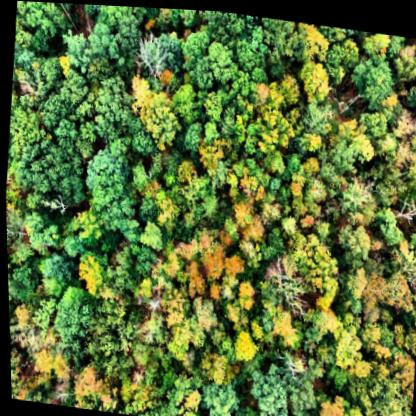tree-top: (16, 135, 87, 211), (77, 138, 136, 229), (130, 78, 184, 151), (84, 297, 136, 369), (182, 19, 235, 89), (346, 363, 406, 416), (78, 76, 123, 142), (293, 228, 339, 291), (348, 49, 396, 109), (245, 361, 289, 416), (359, 263, 409, 311), (69, 362, 114, 412), (15, 202, 58, 254), (278, 362, 319, 416), (316, 135, 357, 189), (335, 213, 377, 264), (364, 143, 401, 199), (231, 17, 270, 70), (258, 101, 295, 153), (6, 107, 41, 161), (334, 256, 371, 307), (299, 53, 336, 103), (54, 290, 91, 339), (384, 233, 416, 288), (327, 317, 361, 367), (105, 4, 144, 46), (268, 23, 301, 72), (85, 16, 120, 61), (74, 250, 108, 296), (198, 379, 239, 416), (27, 349, 68, 386), (293, 305, 329, 347), (369, 202, 402, 247), (160, 317, 195, 359), (228, 202, 263, 244), (39, 249, 73, 292), (16, 1, 60, 34), (59, 29, 91, 74), (358, 101, 394, 140), (195, 236, 226, 281), (166, 84, 200, 125), (297, 20, 329, 63), (154, 28, 185, 71), (30, 292, 57, 337), (136, 36, 164, 79), (187, 293, 217, 331), (275, 68, 304, 107), (135, 217, 163, 256), (199, 346, 227, 385), (331, 31, 363, 64), (314, 389, 353, 416), (181, 258, 208, 297), (231, 327, 257, 365), (272, 305, 299, 341), (387, 350, 414, 386), (194, 188, 221, 223), (300, 173, 328, 206), (6, 266, 32, 301), (217, 248, 246, 278), (8, 349, 24, 400), (236, 278, 259, 312), (362, 28, 393, 53), (178, 123, 203, 152), (204, 87, 226, 119), (178, 384, 203, 411), (264, 223, 287, 252), (136, 274, 156, 302), (264, 145, 285, 171), (31, 26, 49, 56), (239, 242, 260, 267), (219, 215, 241, 238), (405, 67, 416, 111), (199, 115, 216, 141), (401, 326, 416, 351), (280, 210, 296, 233)
